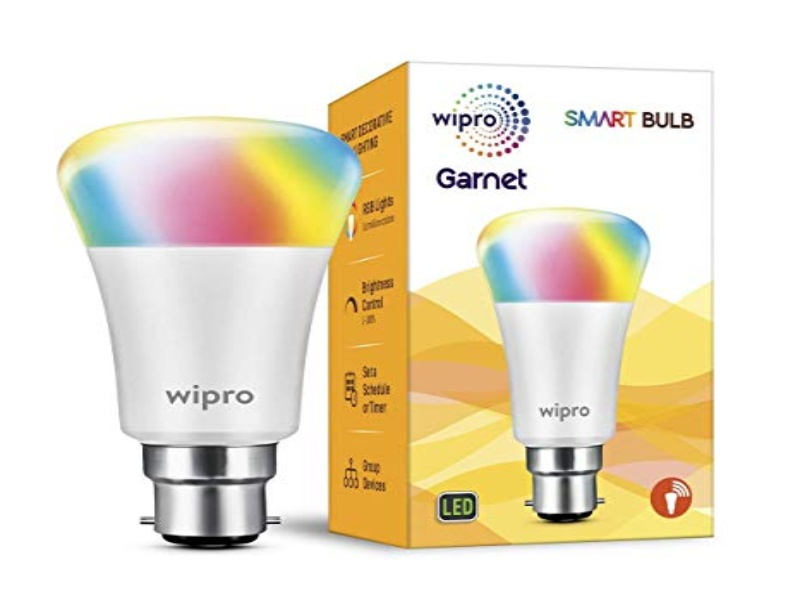wipro: (426, 78, 536, 161)
